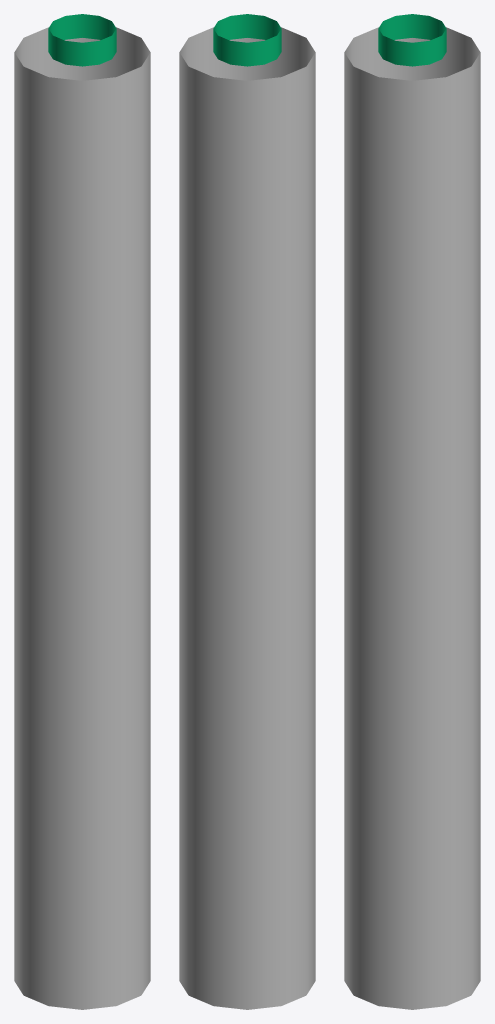
File: speedhighwah_bldng_0.fbx
3 views of the same model, side by side, from view 1: azimuth 90°, elevation 25°; view 2: azimuth 150°, elevation 25°; view 3: azimuth 270°, elevation 25° (orthographic).
Parts seen in each view (by area): view 1: speedhighwah_bldng_0; view 2: speedhighwah_bldng_0; view 3: speedhighwah_bldng_0.
Boxes of the visible parts, box(x1,y1,x2,y2) form: speedhighwah_bldng_0: box(14, 14, 150, 1009); speedhighwah_bldng_0: box(179, 14, 315, 1009); speedhighwah_bldng_0: box(344, 14, 480, 1009).
Bounding box in the file's own units: 4400 × 34000 × 4400.
